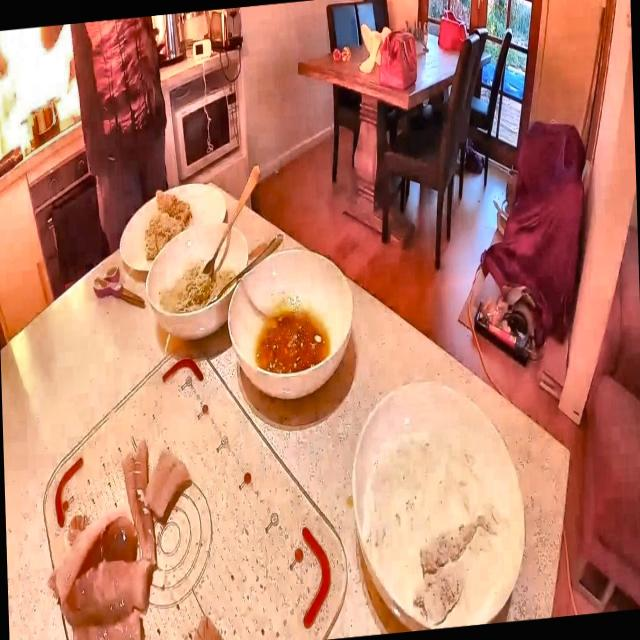fire: (0, 26, 83, 159)
